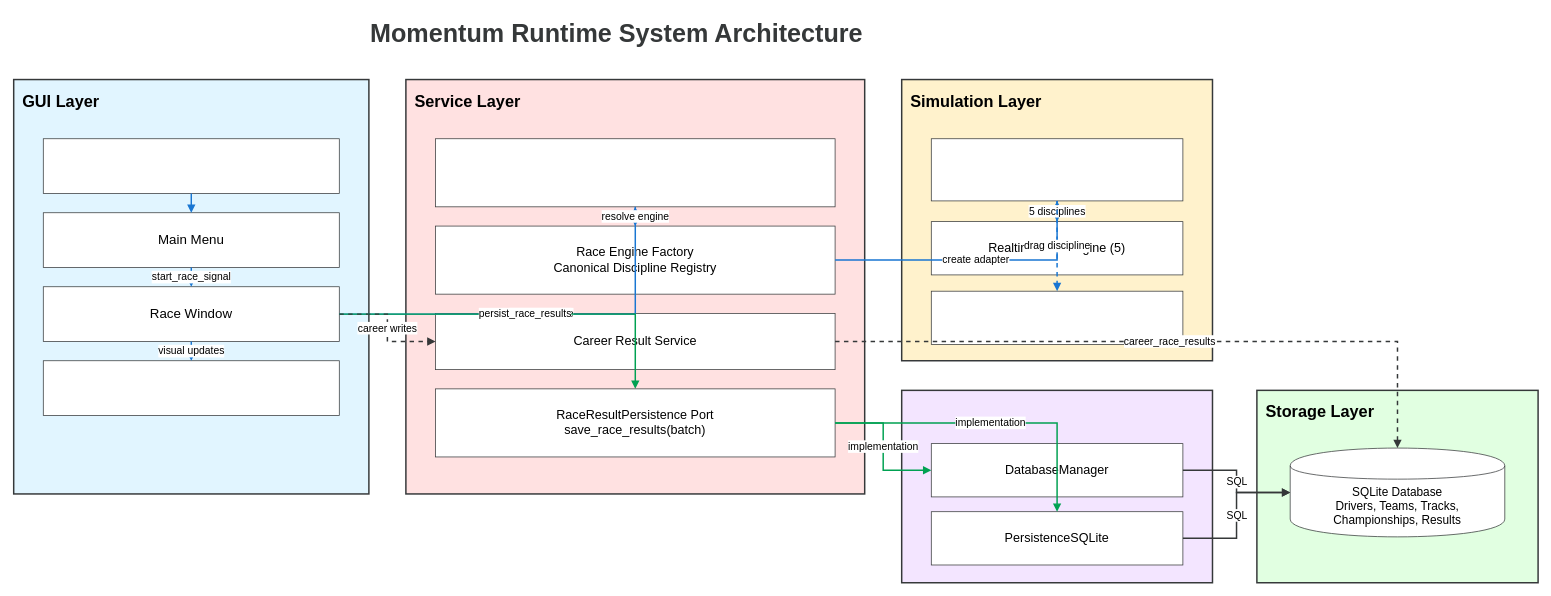
The diagram is 1551 pixels wide and 596 high, and some of its shapes have lost their labels. The shapes that lost their labels are listed below. From the top down, each one's box as (x1, y1, x2, y2) in pixels, then its label:
(43, 138, 339, 194): Launcher
(435, 138, 835, 207): Race Simulation API simulate_race + persist_race_results
(931, 138, 1183, 201): Discipline Adapters (6 Active Disciplines)
(931, 290, 1183, 344): DragAccelerationEngine (1)
(43, 360, 339, 416): Vehicle Renderer
(901, 389, 1213, 583): Persistence Implementations
